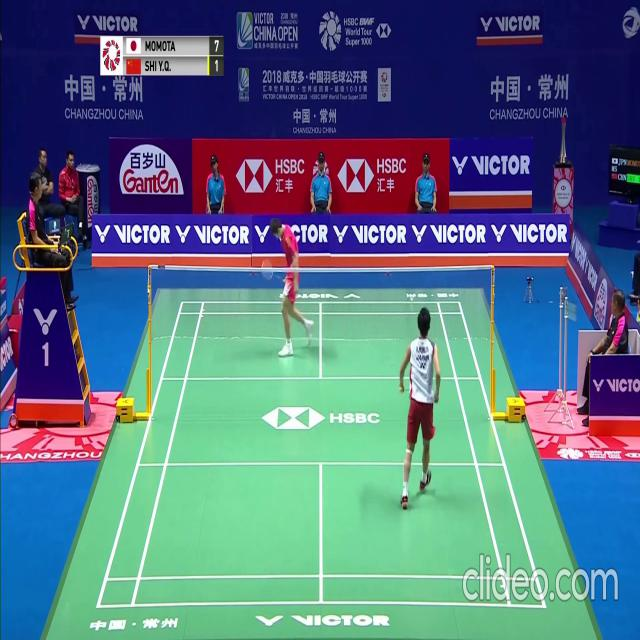Shuttlecock: (409, 294, 414, 302)
